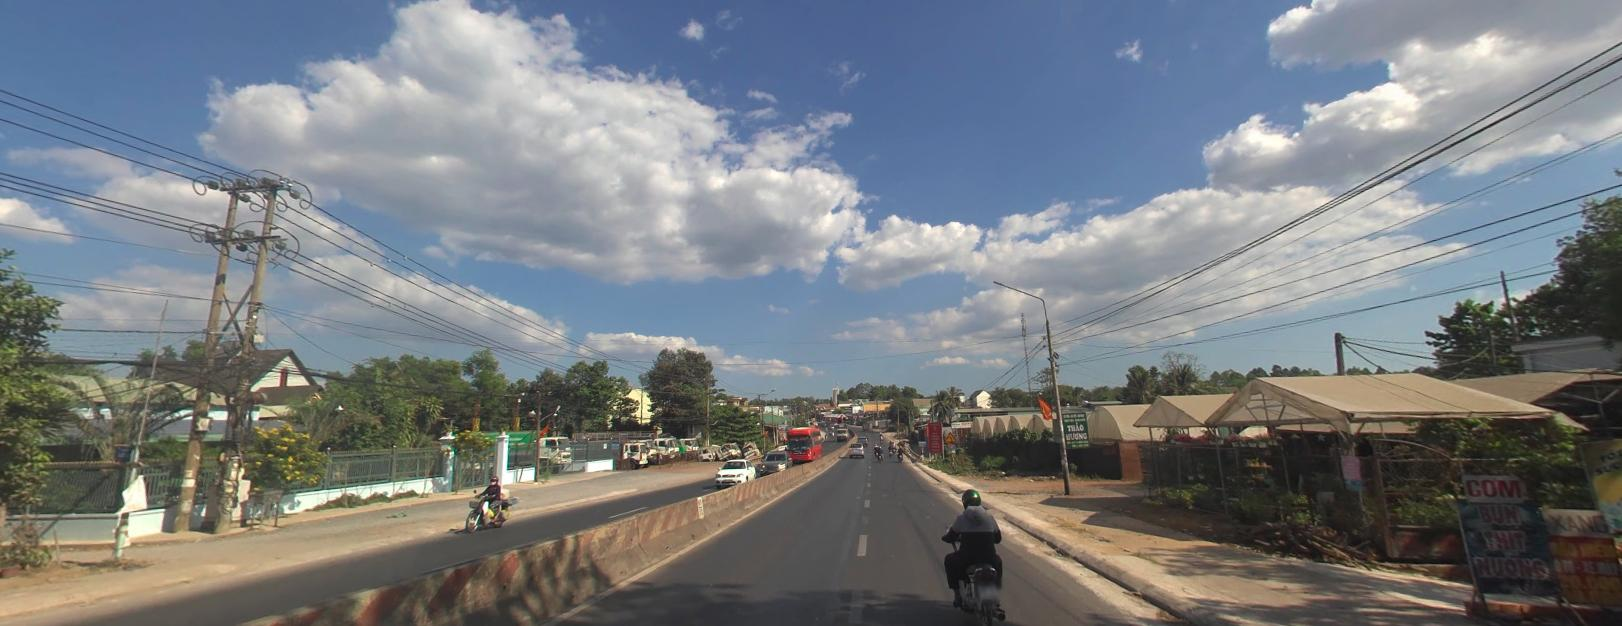Nguy hiem: (945, 431, 955, 440)
